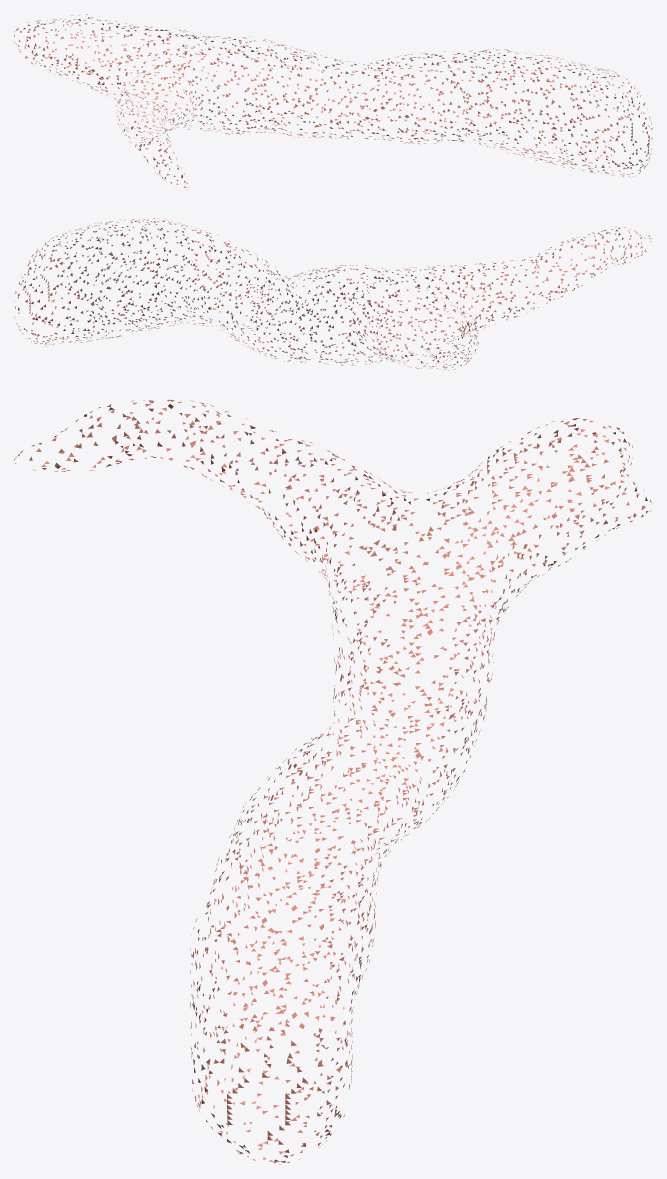
Rendered from morph_002.glb.
The picture shows the model from 3 angles, top to bottom: view 1: azimuth 30°, elevation 25°; view 2: azimuth 150°, elevation 25°; view 3: azimuth 270°, elevation 25°; orthographic projection. The views are drawn at different scales.
Size of the model in its own units: 132 by 48.62 by 81.23.
